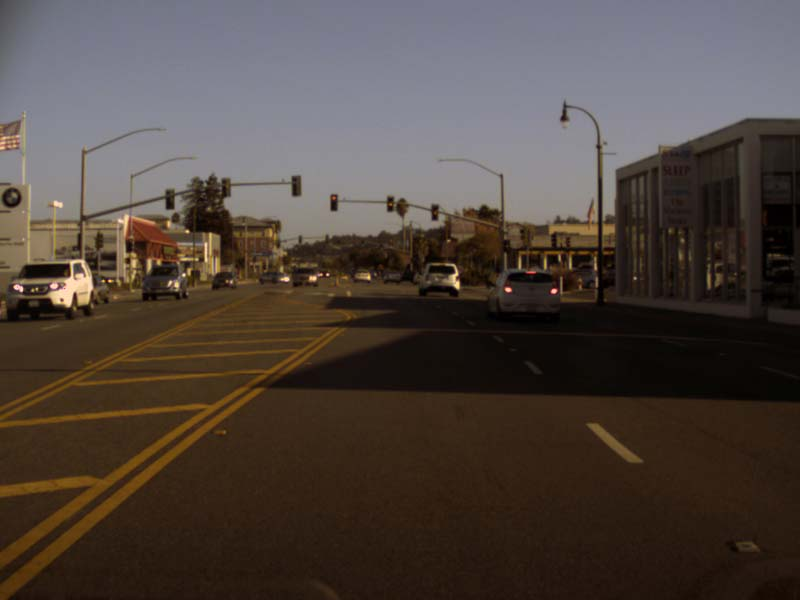Green: (379, 244, 382, 250), (360, 240, 363, 246)
Red: (330, 193, 337, 210)
Yellow: (386, 195, 393, 211), (431, 203, 437, 220), (502, 240, 509, 252)
